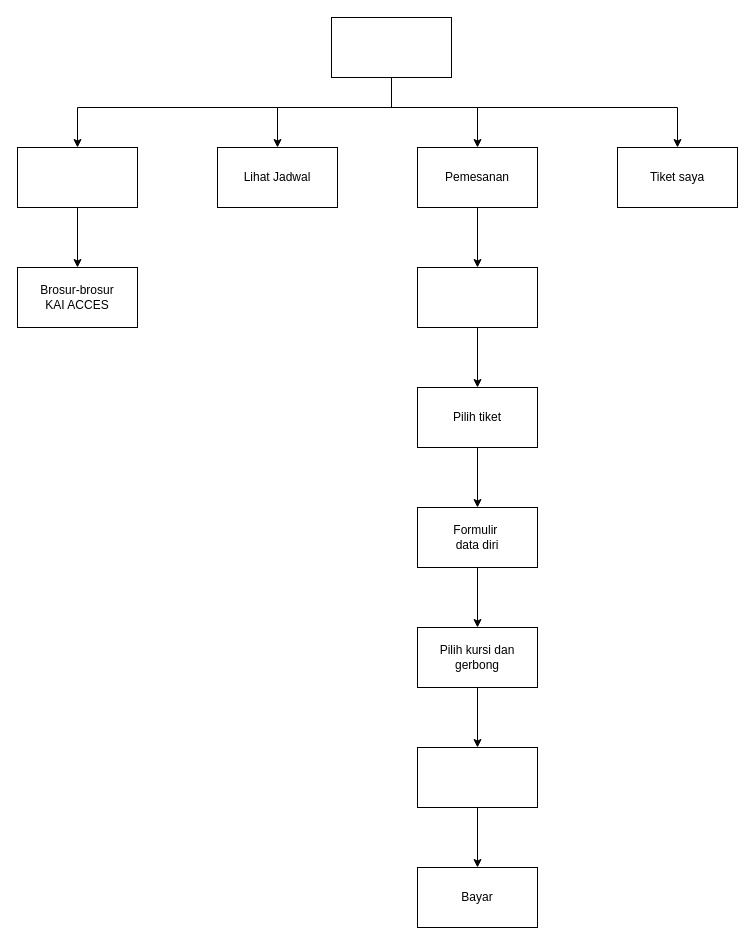
Image size: 755x945. Some labels were removed from this diagram. The centre of each missing label's shape, as x and y in pixels:
"Beranda" belongs at pixel 77 177.
"Formulir pemesanan tiket kereta" belongs at pixel 477 297.
"Informasi pemesanan" belongs at pixel 477 777.
"MENU UTAMA" belongs at pixel 391 47.
